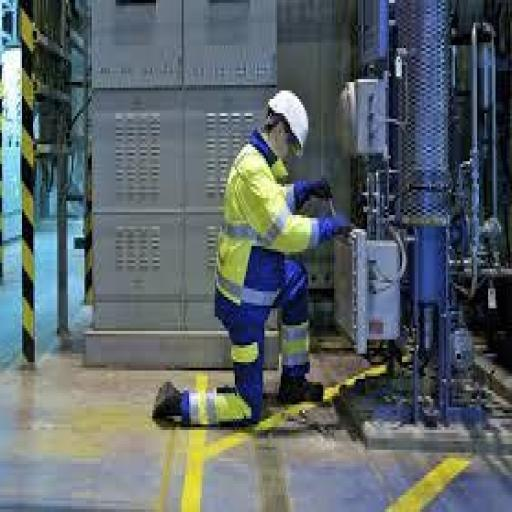safety_boots: (140, 376, 184, 449), (270, 374, 334, 406)
